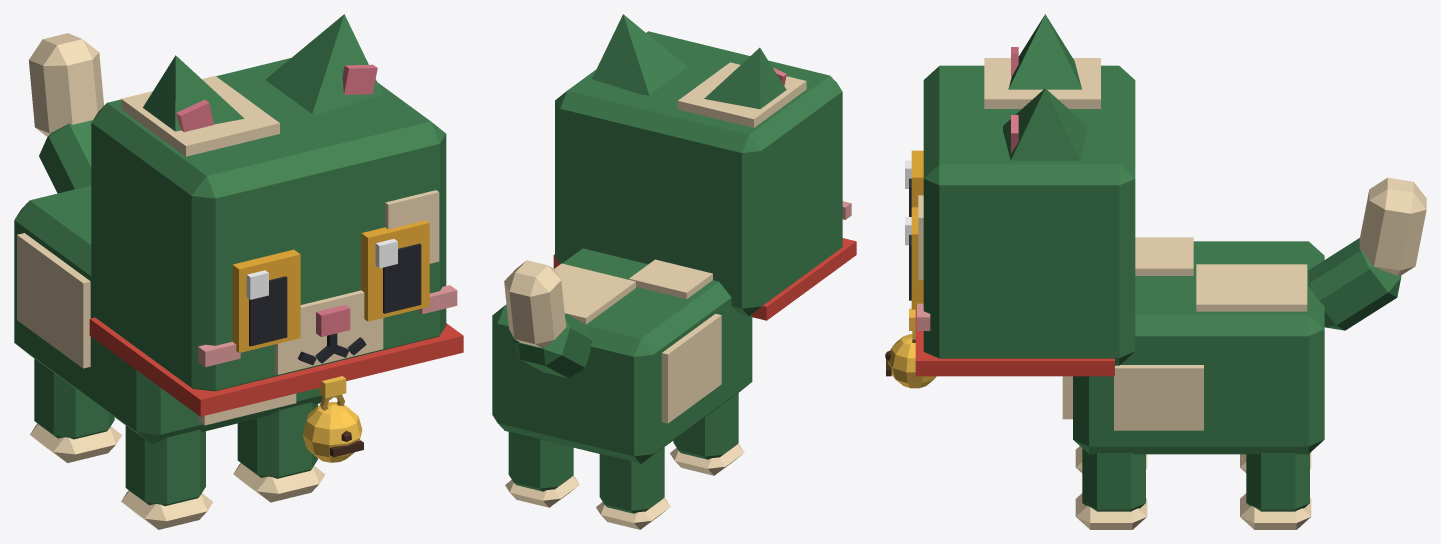
The model's file is CatCafe_Cat_Jingle.glb.
The picture shows the model from 3 angles, left to right: view 1: azimuth 30°, elevation 25°; view 2: azimuth 150°, elevation 25°; view 3: azimuth 270°, elevation 25°; orthographic projection. The views are drawn at different scales.
Visible parts, largest first — view 1: CatCafe_Cat_Jingle_Head, CatCafe_Cat_Jingle_Body, CatCafe_Cat_Jingle_Tail, CatCafe_Cat_Jingle_Prop, CatCafe_Cat_Jingle_LegF2, CatCafe_Cat_Jingle_EarL, CatCafe_Cat_Jingle_LegF1, CatCafe_Cat_Jingle_Eye2, CatCafe_Cat_Jingle_Eye1, CatCafe_Cat_Jingle_LegB2, CatCafe_Cat_Jingle_EarR, CatCafe_Cat_Jingle_Bell; view 2: CatCafe_Cat_Jingle_Head, CatCafe_Cat_Jingle_Body, CatCafe_Cat_Jingle_Tail, CatCafe_Cat_Jingle_LegB2, CatCafe_Cat_Jingle_EarL, CatCafe_Cat_Jingle_LegB1, CatCafe_Cat_Jingle_LegF2, CatCafe_Cat_Jingle_EarR, CatCafe_Cat_Jingle_Prop; view 3: CatCafe_Cat_Jingle_Head, CatCafe_Cat_Jingle_Body, CatCafe_Cat_Jingle_Tail, CatCafe_Cat_Jingle_LegF1, CatCafe_Cat_Jingle_LegB1, CatCafe_Cat_Jingle_EarL, CatCafe_Cat_Jingle_Prop, CatCafe_Cat_Jingle_EarR, CatCafe_Cat_Jingle_Bell, CatCafe_Cat_Jingle_Eye1, CatCafe_Cat_Jingle_Eye2.
Boxes of the visible parts, x1,y1,x2,y2 form: CatCafe_Cat_Jingle_Head: [91, 58, 457, 391]; CatCafe_Cat_Jingle_Body: [14, 185, 322, 444]; CatCafe_Cat_Jingle_Tail: [28, 33, 103, 193]; CatCafe_Cat_Jingle_Prop: [89, 317, 463, 416]; CatCafe_Cat_Jingle_LegF2: [121, 425, 212, 529]; CatCafe_Cat_Jingle_EarL: [265, 14, 382, 114]; CatCafe_Cat_Jingle_LegF1: [233, 402, 325, 502]; CatCafe_Cat_Jingle_Eye2: [232, 249, 300, 352]; CatCafe_Cat_Jingle_Eye1: [361, 220, 429, 321]; CatCafe_Cat_Jingle_LegB2: [30, 358, 121, 462]; CatCafe_Cat_Jingle_EarR: [143, 55, 244, 132]; CatCafe_Cat_Jingle_Bell: [302, 394, 363, 462]; CatCafe_Cat_Jingle_Head: [555, 31, 851, 316]; CatCafe_Cat_Jingle_Body: [492, 248, 752, 463]; CatCafe_Cat_Jingle_Tail: [504, 260, 592, 378]; CatCafe_Cat_Jingle_LegB2: [596, 447, 670, 529]; CatCafe_Cat_Jingle_EarL: [592, 14, 687, 95]; CatCafe_Cat_Jingle_LegB1: [505, 432, 579, 507]; CatCafe_Cat_Jingle_LegF2: [670, 393, 744, 475]; CatCafe_Cat_Jingle_EarR: [704, 47, 786, 109]; CatCafe_Cat_Jingle_Prop: [553, 238, 856, 320]; CatCafe_Cat_Jingle_Head: [917, 58, 1135, 365]; CatCafe_Cat_Jingle_Body: [1062, 237, 1324, 454]; CatCafe_Cat_Jingle_Tail: [1308, 177, 1426, 330]; CatCafe_Cat_Jingle_LegF1: [1075, 448, 1147, 529]; CatCafe_Cat_Jingle_LegB1: [1240, 453, 1311, 529]; CatCafe_Cat_Jingle_EarL: [1003, 88, 1087, 160]; CatCafe_Cat_Jingle_Prop: [909, 308, 1114, 376]; CatCafe_Cat_Jingle_EarR: [1008, 14, 1081, 89]; CatCafe_Cat_Jingle_Bell: [885, 331, 936, 388]; CatCafe_Cat_Jingle_Eye1: [905, 207, 923, 309]; CatCafe_Cat_Jingle_Eye2: [905, 150, 923, 216].
Size of the model in its own units: 1.03 by 1.86 by 2.05.
1 material, 1 textured.
